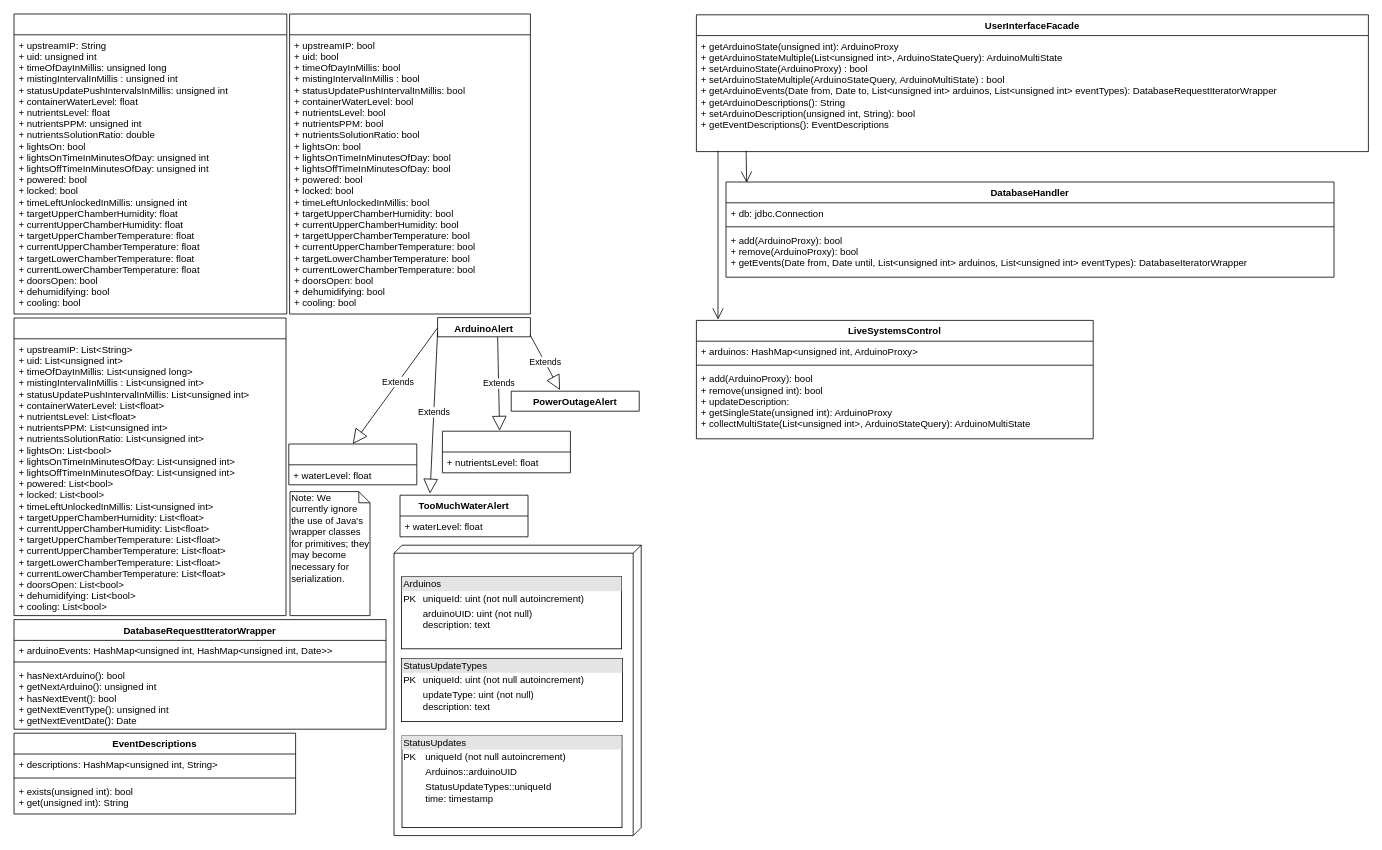
Some shapes in this 1382 by 850 pixel diagram are drawn without their labels. Each missing label, with the box of its shape:
ArduinoMultiState: (13, 317, 286, 616)
ArduinoProxy: (13, 13, 287, 314)
ArduinoStateQuery: (289, 13, 530, 314)
Database: (393, 544, 641, 836)
NeedsNutrientsAlert: (442, 430, 570, 473)
NeedsWaterAlert: (288, 443, 417, 485)
